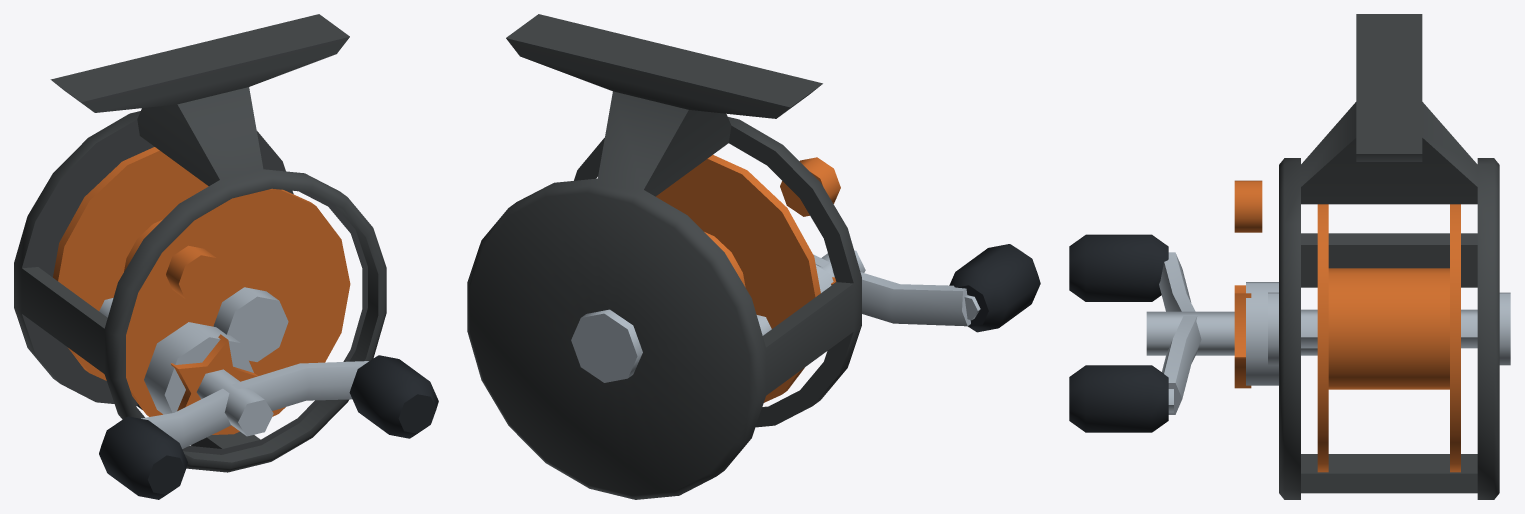
The model's file is reel_08_inline_ice.glb.
3 views of the same model, side by side, from view 1: azimuth 30°, elevation 25°; view 2: azimuth 150°, elevation 25°; view 3: azimuth 270°, elevation 25° (orthographic). The views are drawn at different scales.
Visible parts, largest first — view 1: 08_inline_ice__Continuous_frame_and_foot, 08_inline_ice__Empty_spool, 08_inline_ice__Crank_casting, 08_inline_ice__Grip_0, 08_inline_ice__Grip_1, 08_inline_ice__Drive_bearing_boss, 08_inline_ice__Spool_bearing_seats, 08_inline_ice__Crank_drive_shaft, 08_inline_ice__Drop_button_cap, 08_inline_ice__Star_drag_adjuster; view 2: 08_inline_ice__Continuous_frame_and_foot, 08_inline_ice__Empty_spool, 08_inline_ice__Grip_0, 08_inline_ice__Crank_casting, 08_inline_ice__Spool_bearing_seats, 08_inline_ice__Drop_button_cap; view 3: 08_inline_ice__Continuous_frame_and_foot, 08_inline_ice__Empty_spool, 08_inline_ice__Grip_1, 08_inline_ice__Grip_0, 08_inline_ice__Crank_casting, 08_inline_ice__Crank_drive_shaft, 08_inline_ice__Drive_bearing_boss, 08_inline_ice__Spool_bearing_seats, 08_inline_ice__Drop_button_cap, 08_inline_ice__Spool_support_axle, 08_inline_ice__Star_drag_adjuster.
Boxes of the visible parts, bbox=[...] form: 08_inline_ice__Continuous_frame_and_foot: bbox=[14, 14, 386, 472]; 08_inline_ice__Empty_spool: bbox=[53, 147, 350, 434]; 08_inline_ice__Crank_casting: bbox=[141, 361, 368, 448]; 08_inline_ice__Grip_0: bbox=[99, 416, 187, 499]; 08_inline_ice__Grip_1: bbox=[349, 355, 438, 438]; 08_inline_ice__Drive_bearing_boss: bbox=[144, 322, 253, 414]; 08_inline_ice__Spool_bearing_seats: bbox=[213, 287, 288, 361]; 08_inline_ice__Crank_drive_shaft: bbox=[99, 298, 273, 436]; 08_inline_ice__Drop_button_cap: bbox=[166, 245, 223, 301]; 08_inline_ice__Star_drag_adjuster: bbox=[170, 334, 257, 428]; 08_inline_ice__Continuous_frame_and_foot: bbox=[467, 14, 861, 499]; 08_inline_ice__Empty_spool: bbox=[656, 155, 820, 402]; 08_inline_ice__Grip_0: bbox=[949, 244, 1040, 332]; 08_inline_ice__Crank_casting: bbox=[813, 254, 970, 326]; 08_inline_ice__Spool_bearing_seats: bbox=[571, 309, 642, 382]; 08_inline_ice__Drop_button_cap: bbox=[780, 157, 840, 216]; 08_inline_ice__Continuous_frame_and_foot: bbox=[1279, 14, 1499, 499]; 08_inline_ice__Empty_spool: bbox=[1317, 204, 1460, 472]; 08_inline_ice__Grip_1: bbox=[1069, 365, 1168, 432]; 08_inline_ice__Grip_0: bbox=[1069, 234, 1168, 301]; 08_inline_ice__Crank_casting: bbox=[1159, 252, 1201, 414]; 08_inline_ice__Crank_drive_shaft: bbox=[1146, 311, 1317, 355]; 08_inline_ice__Drive_bearing_boss: bbox=[1246, 282, 1278, 385]; 08_inline_ice__Spool_bearing_seats: bbox=[1268, 292, 1510, 365]; 08_inline_ice__Drop_button_cap: bbox=[1234, 180, 1262, 232]; 08_inline_ice__Spool_support_axle: bbox=[1301, 309, 1477, 348]; 08_inline_ice__Star_drag_adjuster: bbox=[1234, 285, 1251, 388].
Bounding box in the file's own units: 0.0781 × 0.0796 × 0.08.
